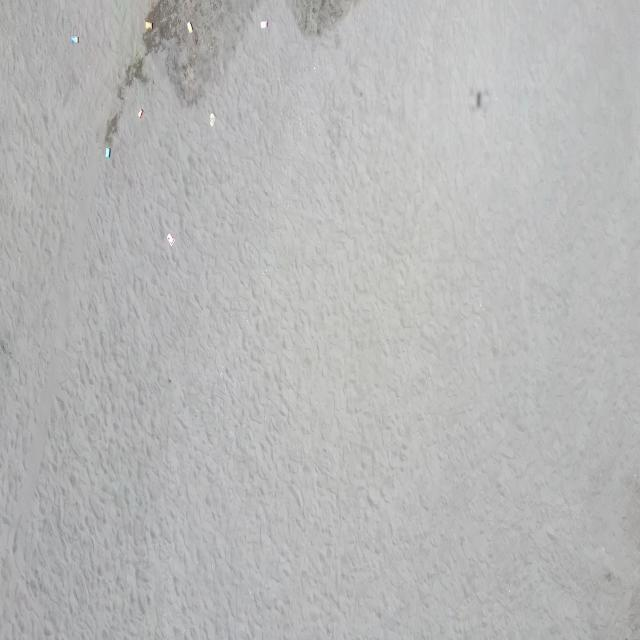retort-pouch: (166, 232, 176, 246), (145, 20, 153, 34), (209, 112, 216, 128), (186, 21, 194, 35), (260, 19, 269, 31), (137, 106, 144, 120), (71, 34, 79, 46), (105, 146, 111, 160)
